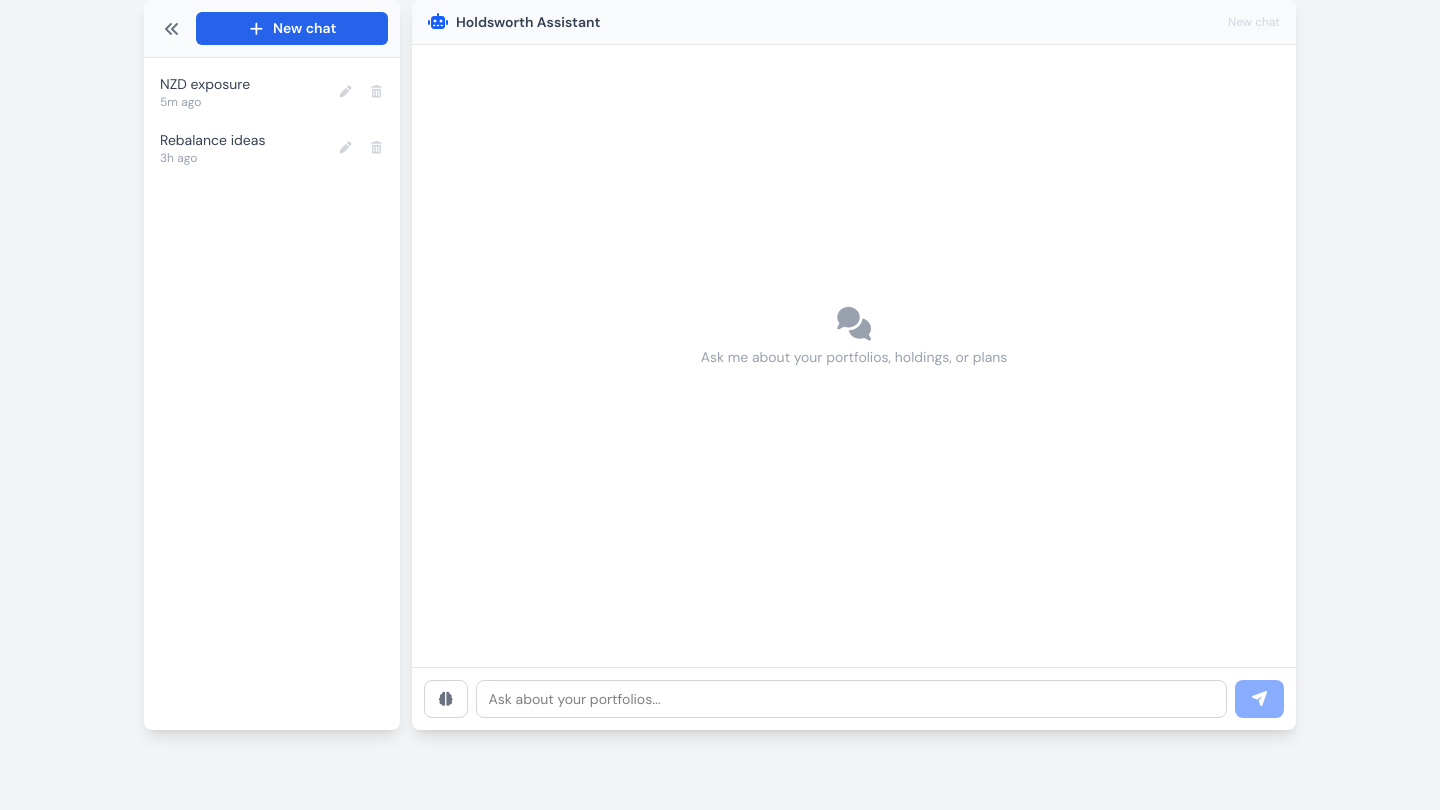
it: /chat page › keeps the conversation when the delete is cancelled
(page scrolled)
Expected: the text "Rebalance ideas" is shown, [160,131,265,149]
Click the button named "Delete \"Rebalance ideas\"". click: [376, 148]
box: [361,132,392,164]
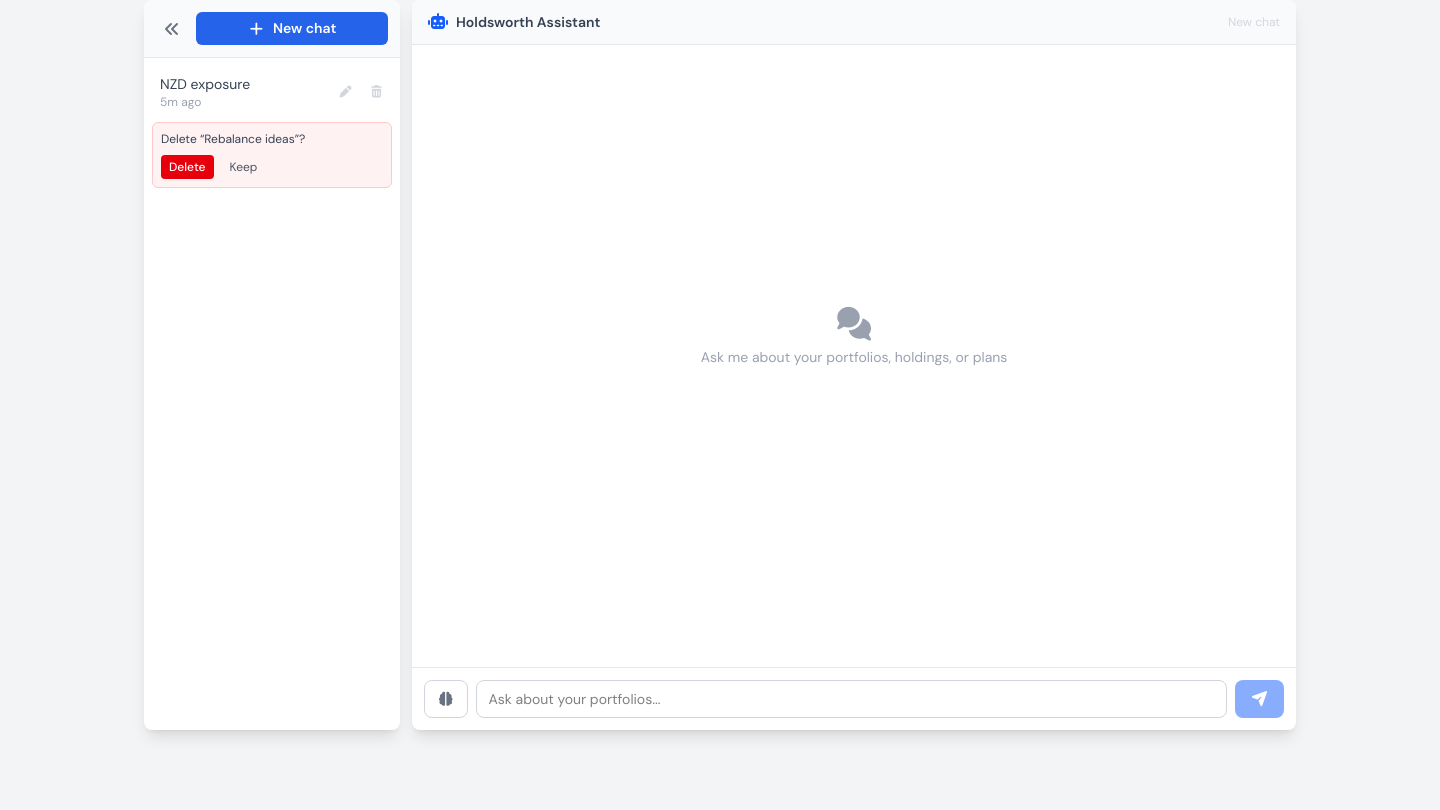
Click the button "Keep". click: [243, 167]
box: [222,155,265,179]
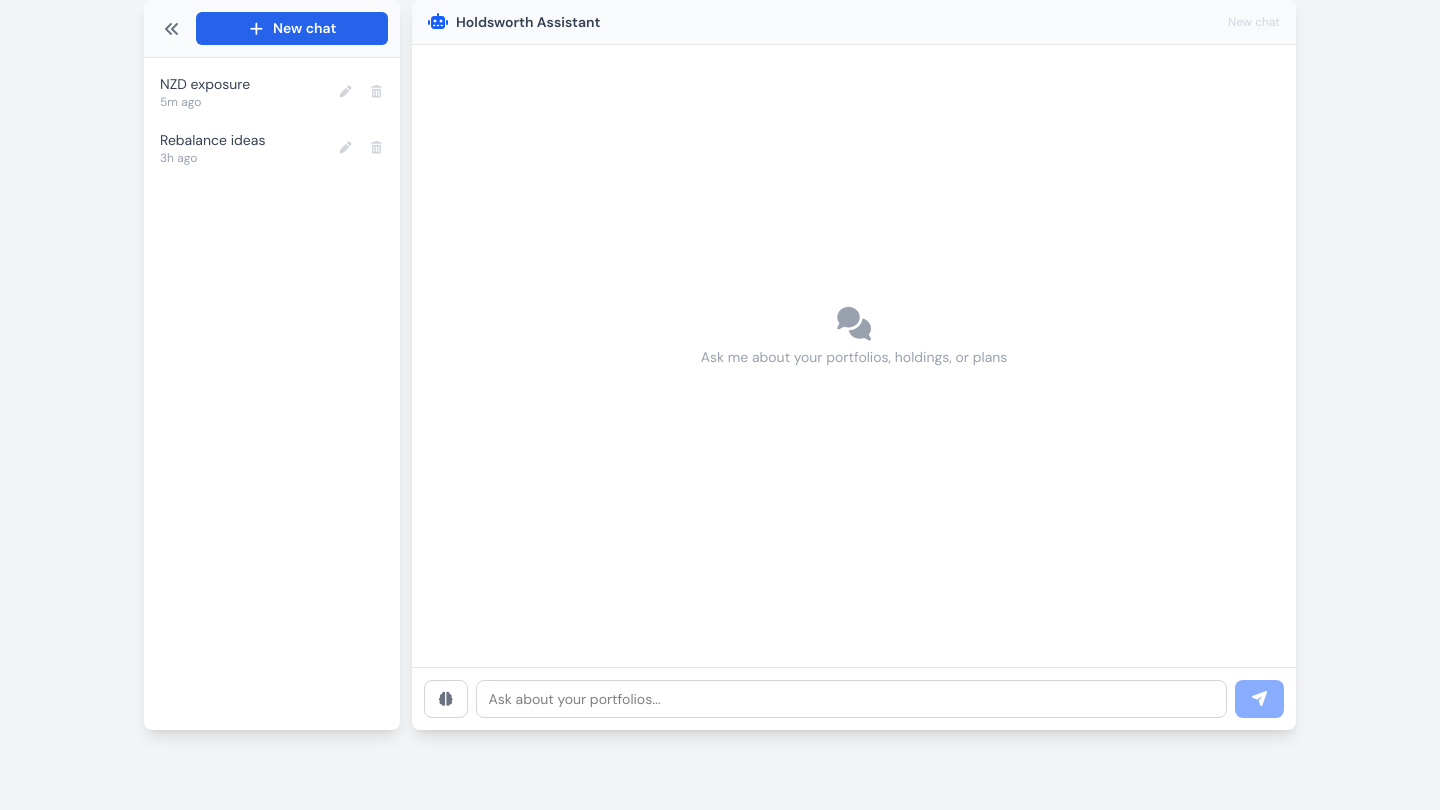
Now the button named "Delete \"Rebalance ideas\"" is shown, box [361,132,392,164]
